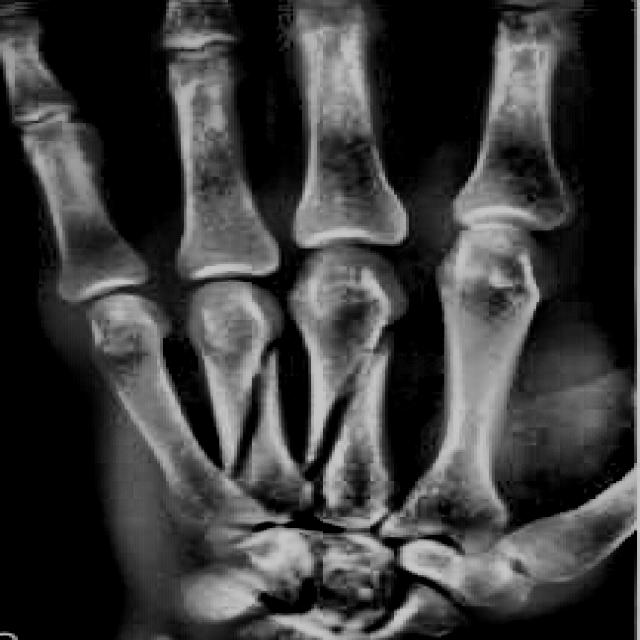fracture: (296, 306, 412, 506), (216, 329, 288, 501)
